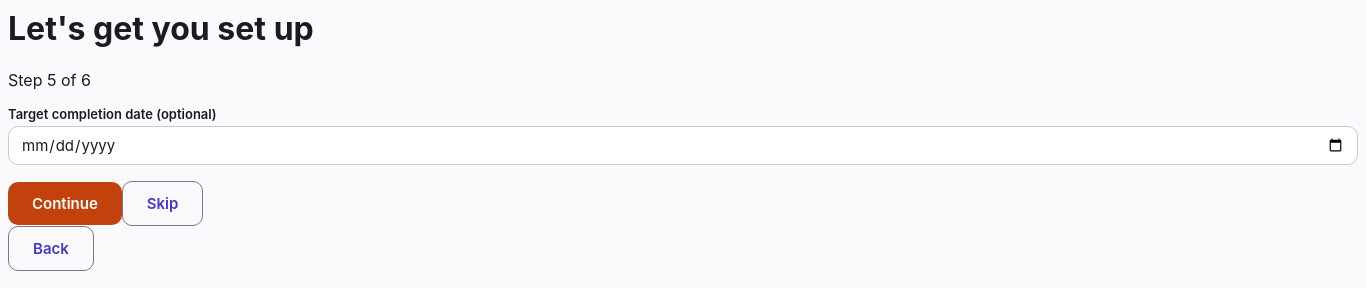
Test: OnboardingWizardPage › the targetDate step's Skip action submits value: null and still advances
Expected: the text "Step 5 of 6" is shown, [8, 70, 91, 90]
Click the button "Skip": point(163, 203) [122, 181, 203, 226]
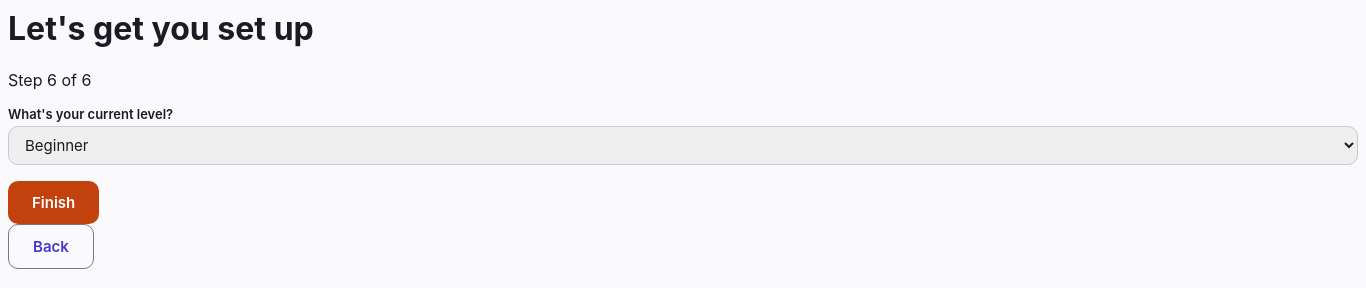
Now the text "Step 6 of 6" is shown, box [8, 70, 91, 90]
